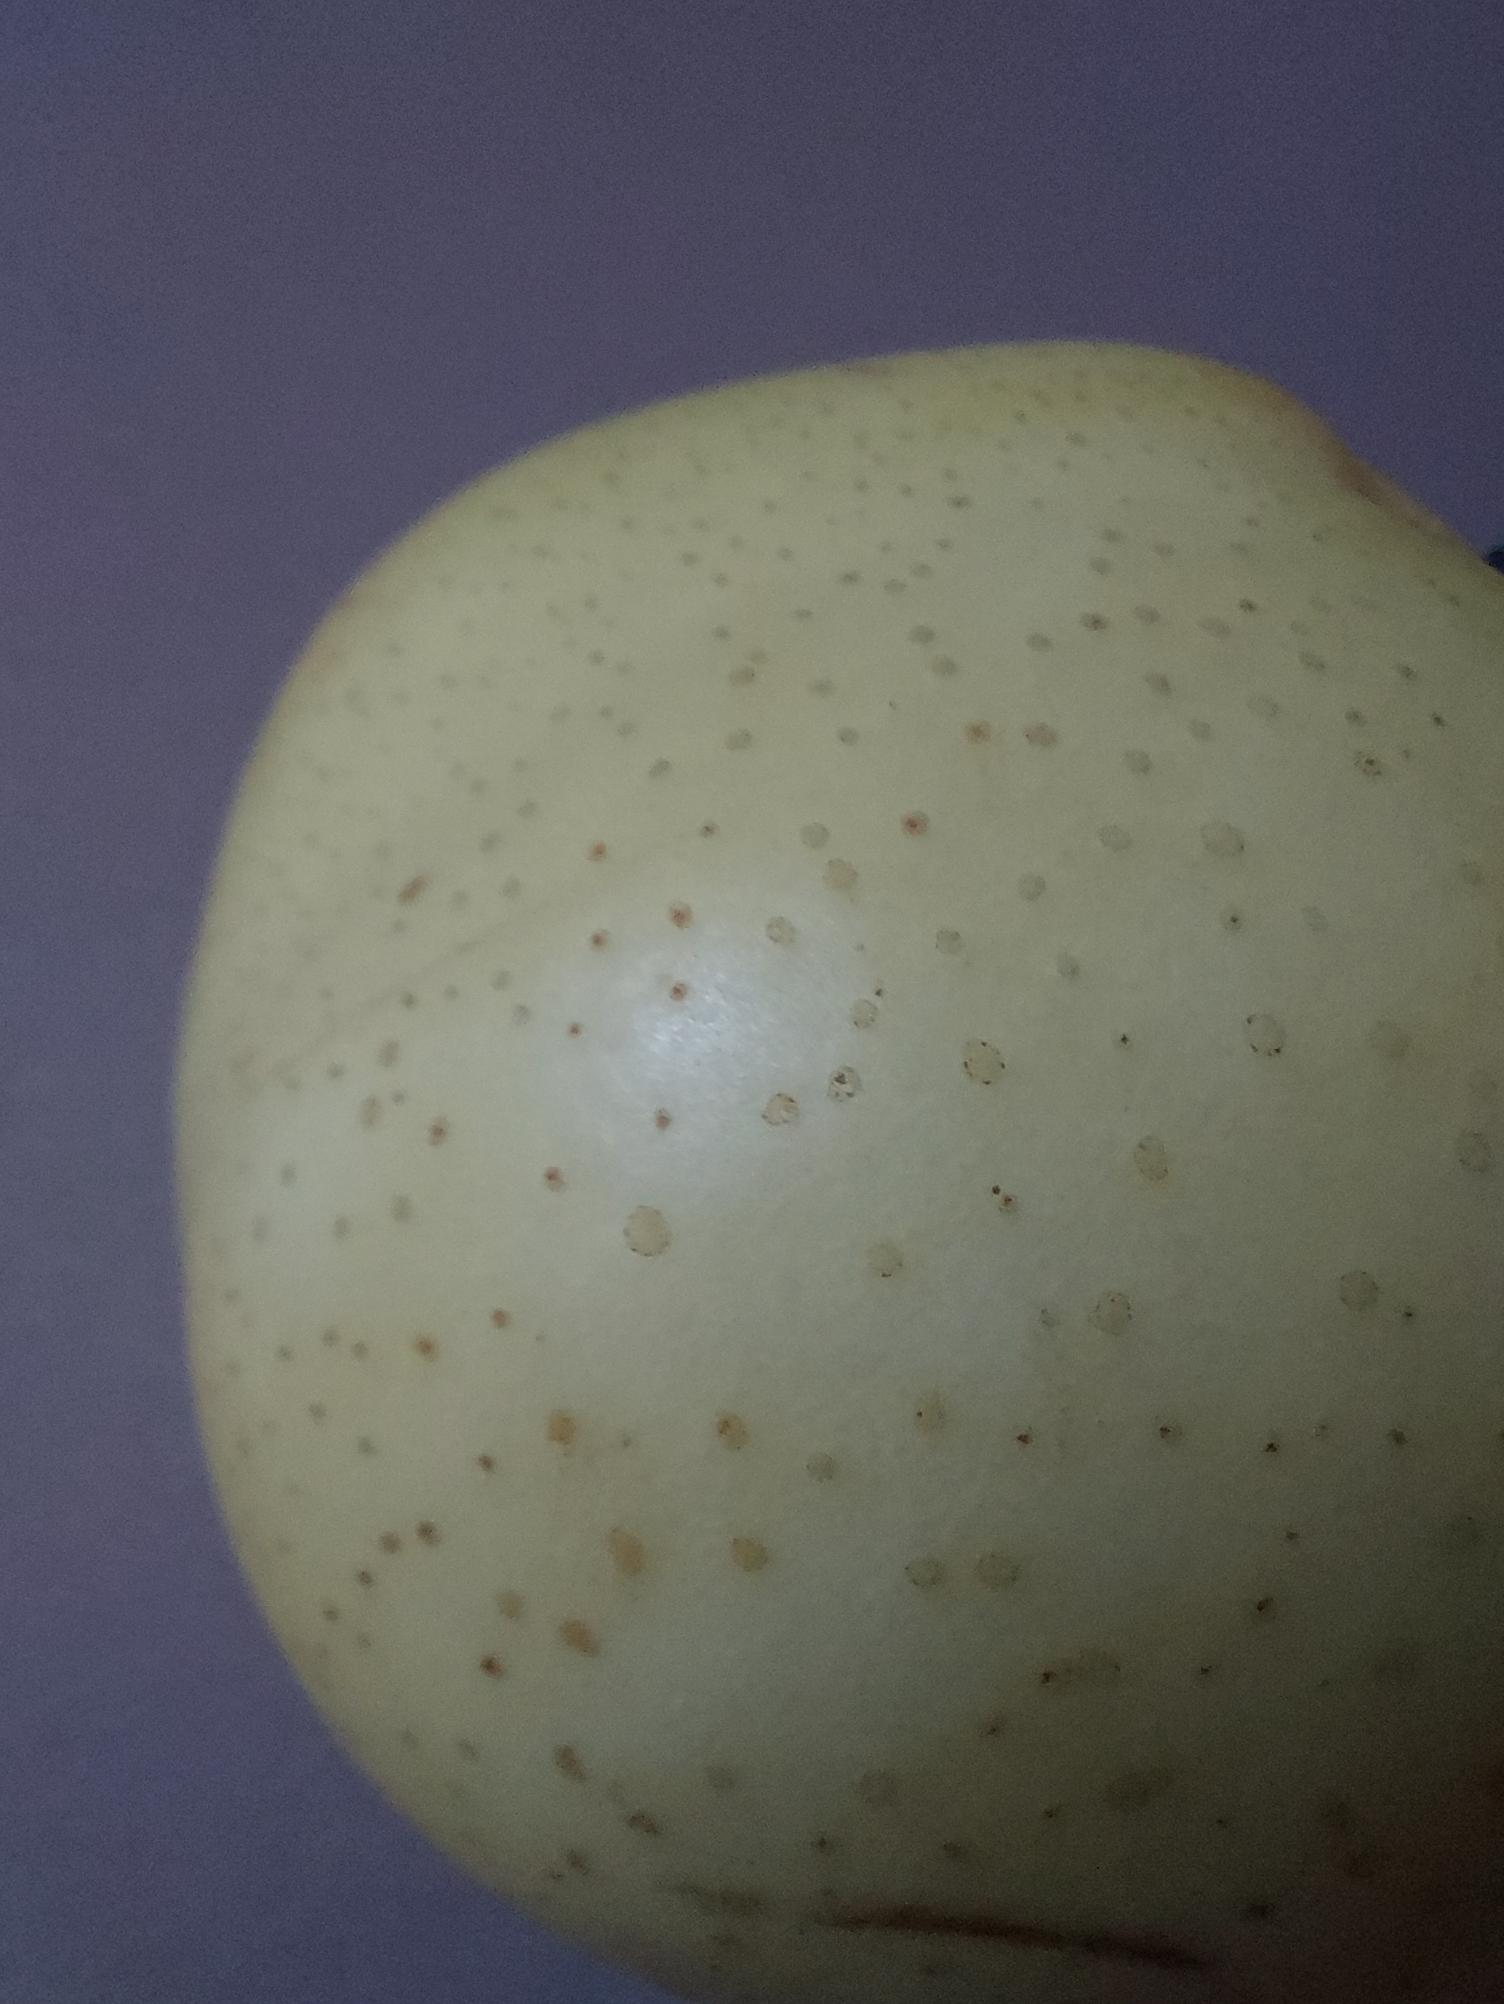Good Pear: (163, 332, 1504, 2004)
